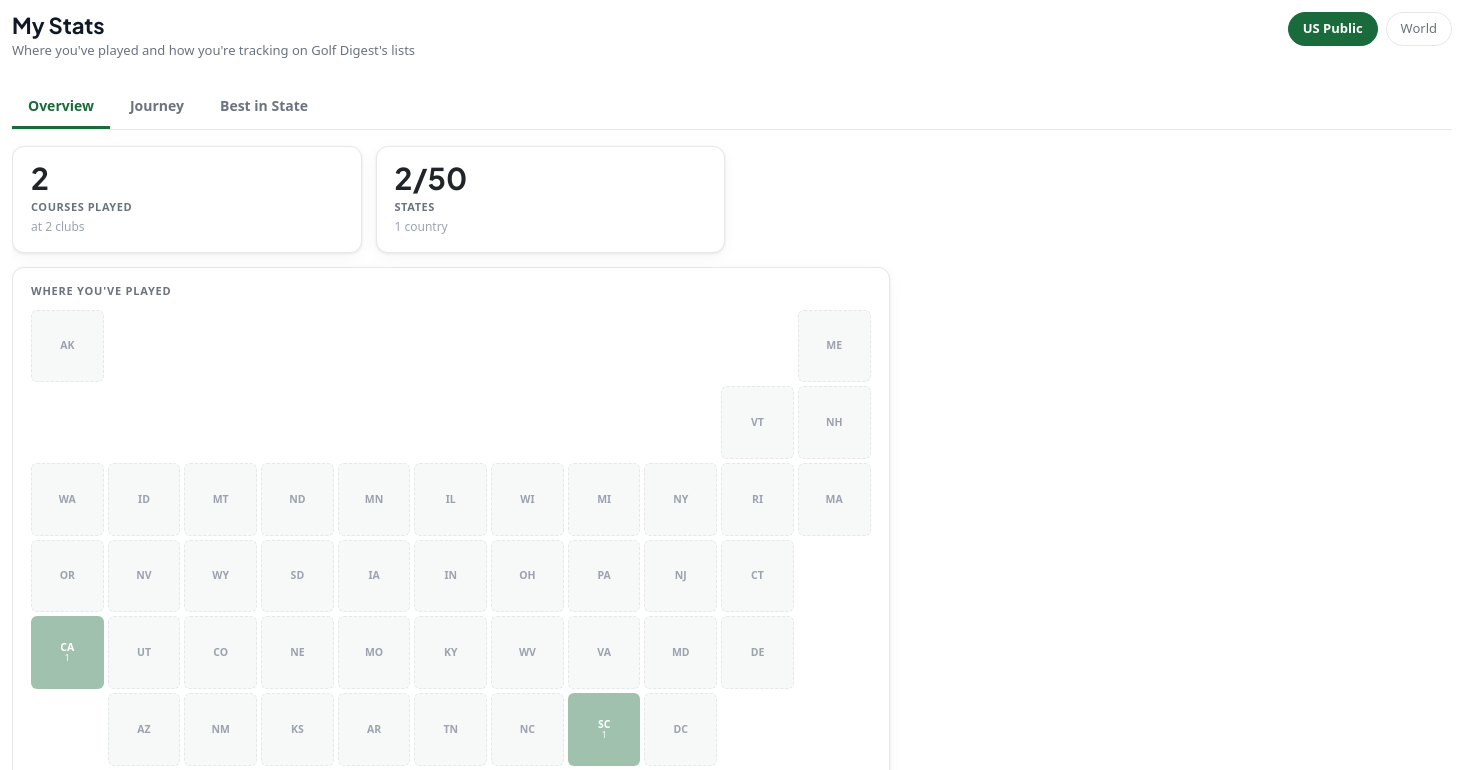
Test case: Stats journey › shows the year-by-year timeline for the picked list
This screenshot has width=1464, height=770.
Click the tab "Journey". click: (157, 107)
box: [114,85,200,129]
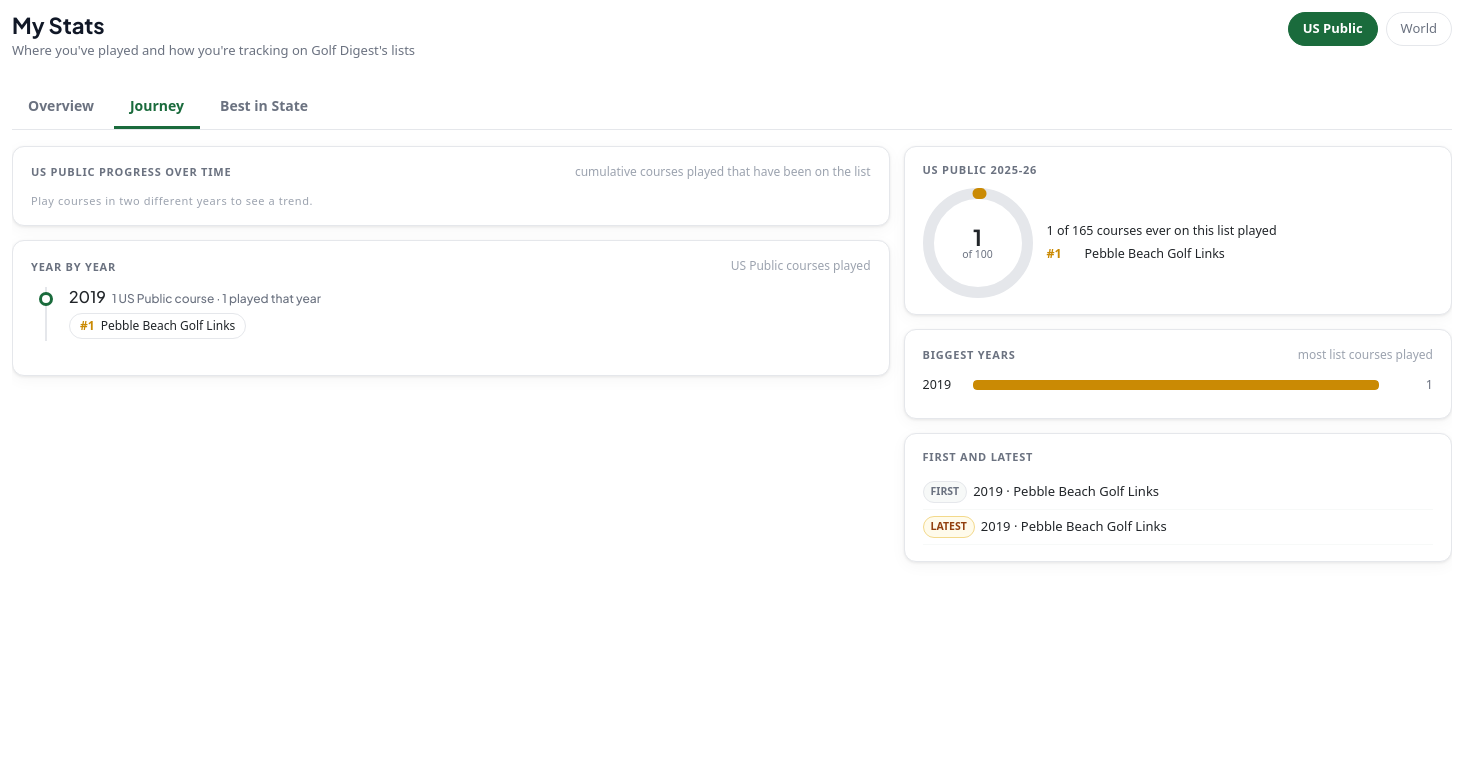
Check: the heading "Year by year" is shown, box [31,260,116,273]
Check: the heading "20191 US Public course · 1 played that year" is shown, box [69,286,321,307]
Check: the heading "Biggest years" is shown, box [922,348,1016,362]
